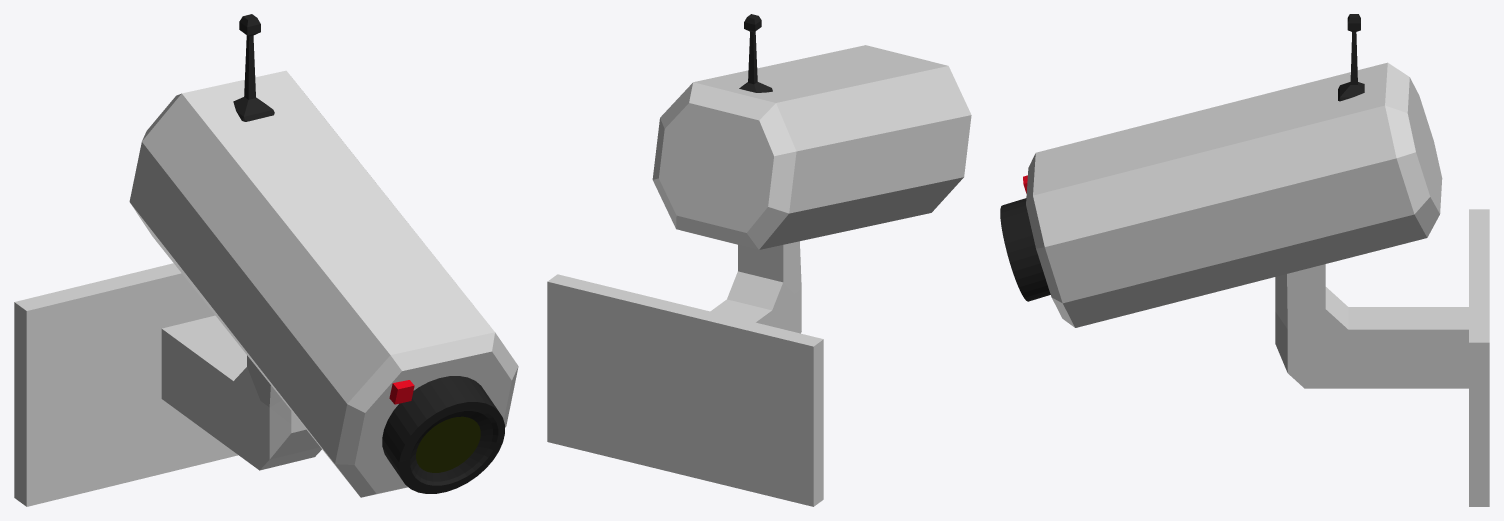
Rendered from Camera.fbx.
The picture shows the model from 3 angles, left to right: view 1: azimuth 30°, elevation 25°; view 2: azimuth 150°, elevation 25°; view 3: azimuth 270°, elevation 25°; orthographic projection. The views are drawn at different scales.
Parts seen in each view (by area): view 1: Camera, Stand; view 2: Stand, Camera; view 3: Camera, Stand.
Part boxes in pixels (bbox=[...]): Camera: bbox=[129, 14, 518, 497]; Stand: bbox=[14, 263, 321, 506]; Stand: bbox=[547, 241, 823, 506]; Camera: bbox=[652, 14, 971, 249]; Camera: bbox=[1000, 14, 1442, 327]; Stand: bbox=[1275, 209, 1489, 506].
Bounding box in the file's own units: 142 × 91.36 × 135.
